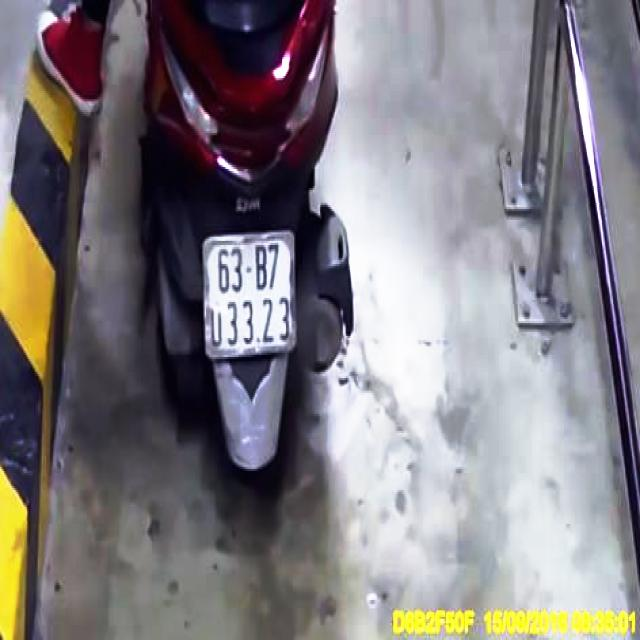license_plate: (206, 235, 296, 356)
